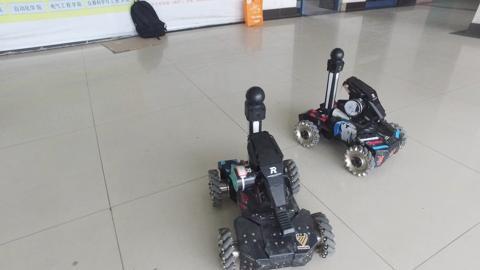chariot: (200, 82, 339, 270), (289, 43, 417, 180)
